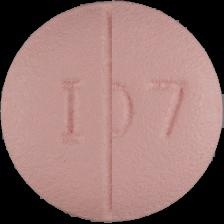64205-207: (0, 0, 224, 224)
